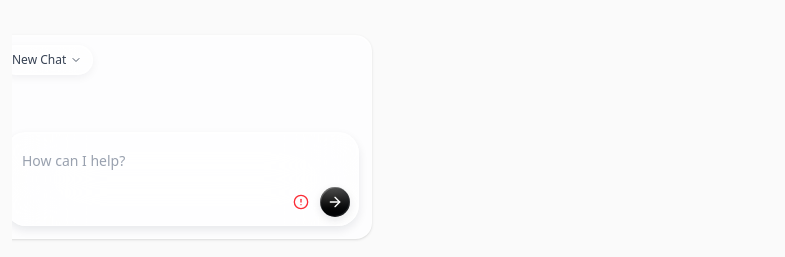
TRChatPanel model selection › blocks a new chat with no selected model before streaming
Type "Summarise this review" into the dropdown with placeholder "How can I help?" at (182, 161), box [22,149,342,173]
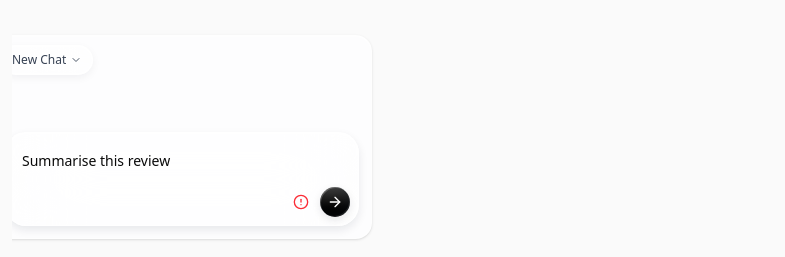
Press Enter in the dropdown with placeholder "How can I help?", box [22,149,342,173]
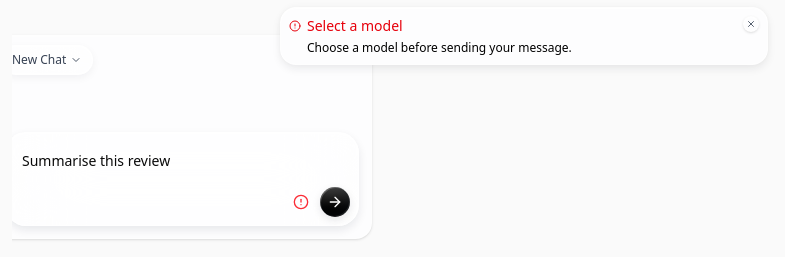
Result: the text "Select a model" is shown at [307,16,403,35]
